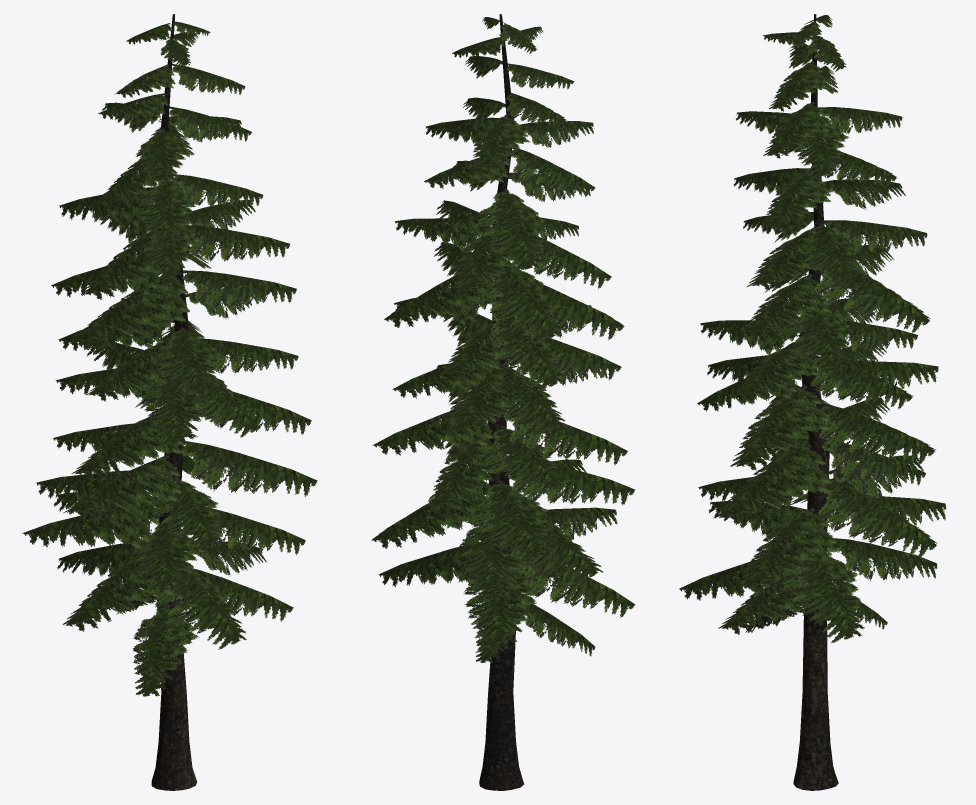
The model's file is tree_3.obj.
The picture shows the model from 3 angles, left to right: view 1: azimuth 30°, elevation 25°; view 2: azimuth 150°, elevation 25°; view 3: azimuth 270°, elevation 25°; orthographic projection.
Parts seen in each view (by area): view 1: tree_3_leaves, tree_3; view 2: tree_3_leaves, tree_3; view 3: tree_3_leaves, tree_3.
Part boxes in pixels (box(x1,y1,x2,y2)): tree_3_leaves: box(22, 14, 317, 696); tree_3: box(151, 14, 197, 790); tree_3_leaves: box(371, 14, 635, 662); tree_3: box(479, 14, 524, 790); tree_3_leaves: box(679, 14, 946, 642); tree_3: box(793, 14, 838, 790).
Bounding box in the file's own units: 2.16 × 6.02 × 2.02.
